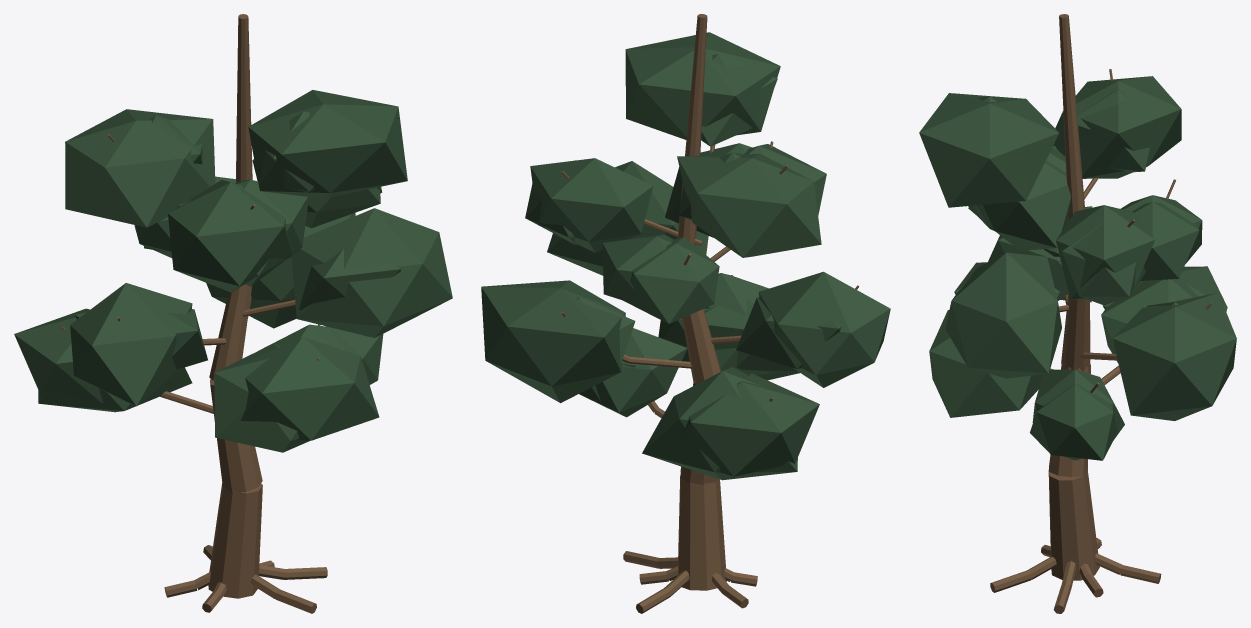
Rendered from tree_broadleaf.glb.
3 views of the same model, side by side, from view 1: azimuth 30°, elevation 25°; view 2: azimuth 150°, elevation 25°; view 3: azimuth 270°, elevation 25° (orthographic). The views are drawn at different scales.
Visible parts, largest first — view 1: tree_broadleaf; view 2: tree_broadleaf; view 3: tree_broadleaf.
Boxes of the visible parts, <box> form: tree_broadleaf: <box>14,14,452,613</box>; tree_broadleaf: <box>481,14,890,613</box>; tree_broadleaf: <box>919,14,1236,613</box>.
Bounding box in the file's own units: 6.85 × 11.1 × 5.7.
